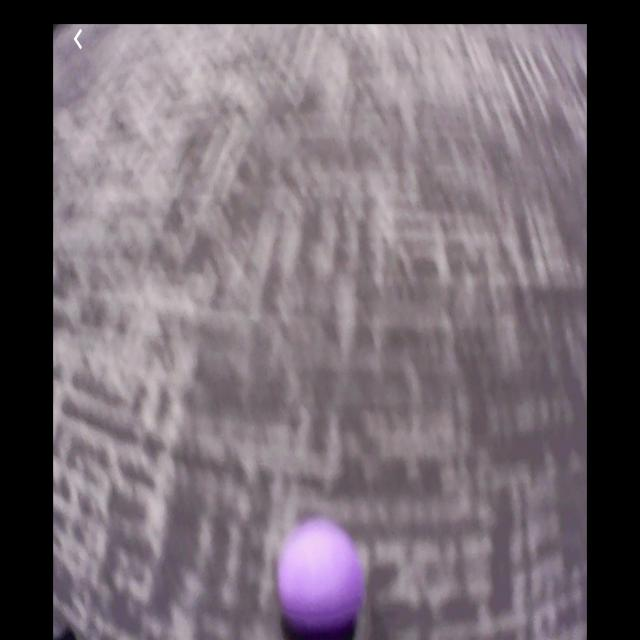ball: (279, 520, 359, 640)
